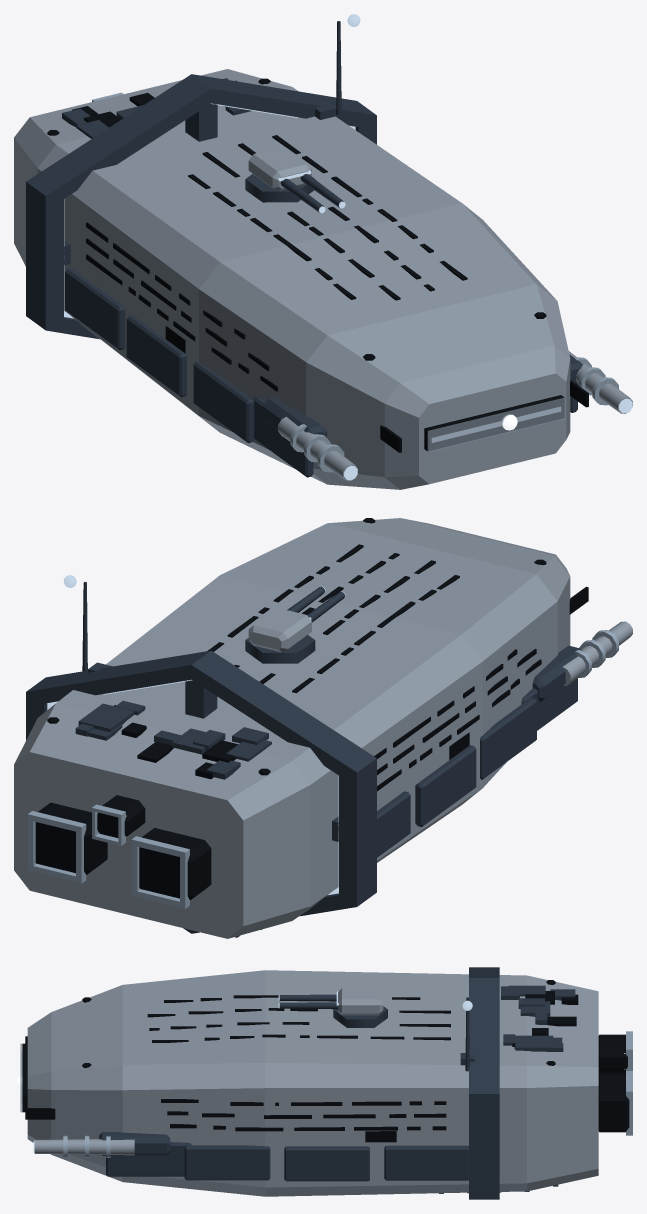
The model's file is paragraf-wykonawcy-hawk-52-lod0.glb.
3 views of the same model, one above another, from view 1: azimuth 30°, elevation 25°; view 2: azimuth 150°, elevation 25°; view 3: azimuth 270°, elevation 25° (orthographic). The views are drawn at different scales.
Bounding box in the file's own units: 11.39 × 10.15 × 23.52.
